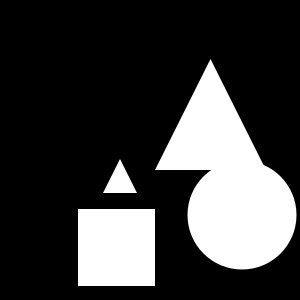circle: (78, 209, 155, 286)
rectangle: (188, 160, 296, 270)
triangle: (155, 59, 266, 170), (103, 159, 137, 193)
